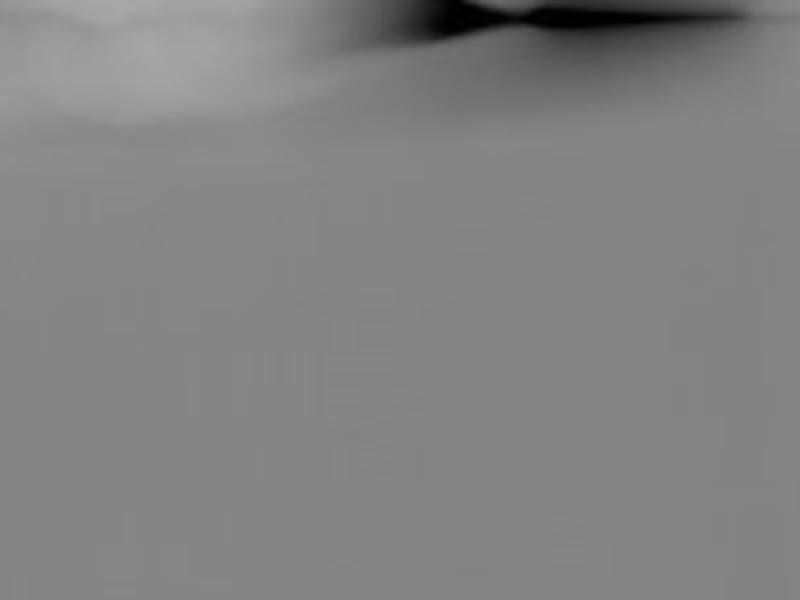defect: (526, 3, 740, 32), (363, 2, 506, 41)
